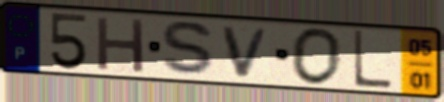5: (48, 11, 89, 72)
H: (94, 14, 148, 75)
L: (351, 28, 394, 91)
O: (289, 26, 344, 88)
S: (159, 19, 220, 79)
V: (219, 25, 274, 80)
